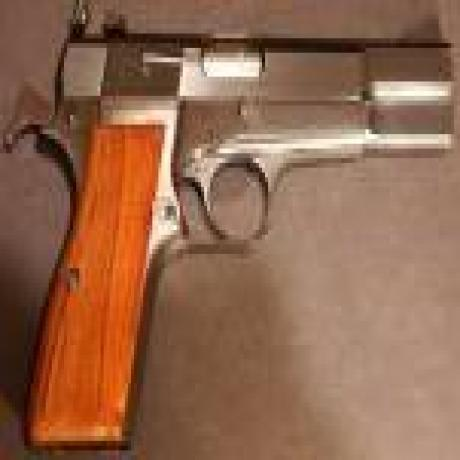weapon: (4, 4, 460, 457)
